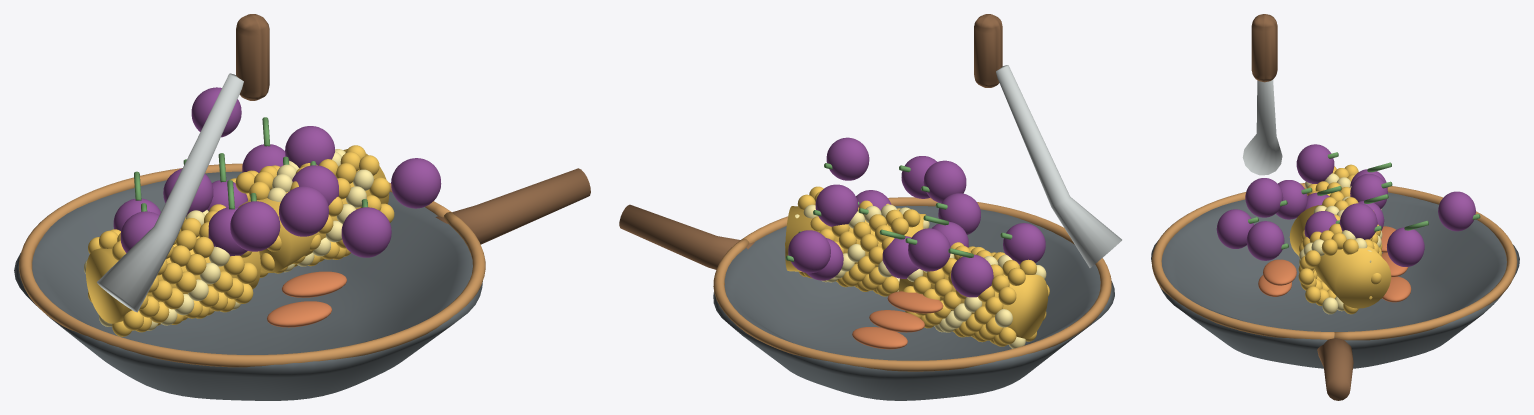
Rendered from K03_Corn_Grape_Cafeteria_Dance.glb.
The picture shows the model from 3 angles, left to right: view 1: azimuth 30°, elevation 25°; view 2: azimuth 150°, elevation 25°; view 3: azimuth 270°, elevation 25°; orthographic projection. The views are drawn at different scales.
Visible parts, largest first — view 1: K03 physical deep hand-hammered concave frying pan, K03_GRAPES_ACTOR | Purple plump seedless grapes, K03_CORN_ACTOR | Corn on cob vibrant golden cooked kernels, K03 machined copper pan top rim, K03 physical curved chef steel frying spatula, K03 heavy side cooking handle, K03_CORN_ACTOR | Sweet popcorn pale yellow buds, K03 spatula wooden non-slip cooking grip, K03_PAN_ACTOR | Tomato-egg deep orange sizzle, K03_GRAPES_ACTOR | Fresh grape vine emerald leaves; view 2: K03 physical deep hand-hammered concave frying pan, K03_GRAPES_ACTOR | Purple plump seedless grapes, K03_CORN_ACTOR | Corn on cob vibrant golden cooked kernels, K03 machined copper pan top rim, K03 physical curved chef steel frying spatula, K03 heavy side cooking handle, K03_CORN_ACTOR | Sweet popcorn pale yellow buds, K03_PAN_ACTOR | Tomato-egg deep orange sizzle, K03 spatula wooden non-slip cooking grip, K03_GRAPES_ACTOR | Fresh grape vine emerald leaves; view 3: K03 physical deep hand-hammered concave frying pan, K03_GRAPES_ACTOR | Purple plump seedless grapes, K03_CORN_ACTOR | Corn on cob vibrant golden cooked kernels, K03 machined copper pan top rim, K03 physical curved chef steel frying spatula, K03_PAN_ACTOR | Tomato-egg deep orange sizzle, K03 heavy side cooking handle, K03 spatula wooden non-slip cooking grip, K03_CORN_ACTOR | Sweet popcorn pale yellow buds, K03_GRAPES_ACTOR | Fresh grape vine emerald leaves.
Boxes of the visible parts, x1,y1,x2,y2 form: K03 physical deep hand-hammered concave frying pan: (14, 171, 482, 400); K03_GRAPES_ACTOR | Purple plump seedless grapes: (113, 87, 441, 257); K03_CORN_ACTOR | Corn on cob vibrant golden cooked kernels: (86, 145, 394, 336); K03 machined copper pan top rim: (19, 163, 485, 367); K03 physical curved chef steel frying spatula: (97, 73, 243, 312); K03 heavy side cooking handle: (435, 168, 590, 244); K03_CORN_ACTOR | Sweet popcorn pale yellow buds: (84, 149, 373, 330); K03 spatula wooden non-slip cooking grip: (236, 14, 269, 100); K03_PAN_ACTOR | Tomato-egg deep orange sizzle: (267, 271, 346, 327); K03_GRAPES_ACTOR | Fresh grape vine emerald leaves: (134, 117, 367, 211); K03 physical deep hand-hammered concave frying pan: (713, 205, 1114, 400); K03_GRAPES_ACTOR | Purple plump seedless grapes: (788, 137, 1045, 297); K03_CORN_ACTOR | Corn on cob vibrant golden cooked kernels: (785, 186, 1049, 346); K03 machined copper pan top rim: (713, 197, 1111, 371); K03 physical curved chef steel frying spatula: (996, 65, 1121, 267); K03 heavy side cooking handle: (619, 204, 754, 269); K03_CORN_ACTOR | Sweet popcorn pale yellow buds: (795, 204, 1046, 348); K03_PAN_ACTOR | Tomato-egg deep orange sizzle: (852, 291, 943, 349); K03 spatula wooden non-slip cooking grip: (974, 14, 1002, 87); K03_GRAPES_ACTOR | Fresh grape vine emerald leaves: (785, 163, 1012, 261); K03 physical deep hand-hammered concave frying pan: (1151, 192, 1519, 368); K03_GRAPES_ACTOR | Purple plump seedless grapes: (1216, 144, 1475, 266); K03_CORN_ACTOR | Corn on cob vibrant golden cooked kernels: (1289, 164, 1391, 314); K03 machined copper pan top rim: (1151, 183, 1517, 340); K03 physical curved chef steel frying spatula: (1242, 80, 1282, 175); K03_PAN_ACTOR | Tomato-egg deep orange sizzle: (1258, 226, 1411, 302); K03 heavy side cooking handle: (1317, 337, 1353, 400); K03 spatula wooden non-slip cooking grip: (1251, 14, 1277, 82); K03_CORN_ACTOR | Sweet popcorn pale yellow buds: (1299, 173, 1382, 314); K03_GRAPES_ACTOR | Fresh grape vine emerald leaves: (1248, 152, 1480, 249).
Size of the model in its own units: 2.44 by 1.68 by 1.85.
